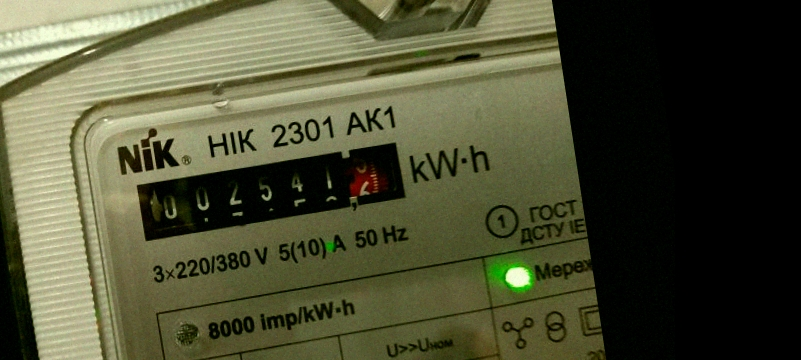0: (189, 179, 212, 214), (159, 189, 180, 221)
1: (315, 157, 336, 192)
2: (219, 173, 245, 209)
4: (284, 162, 306, 196)
5: (253, 170, 274, 204)
6: (353, 175, 372, 199)
screen: (118, 124, 428, 258)
